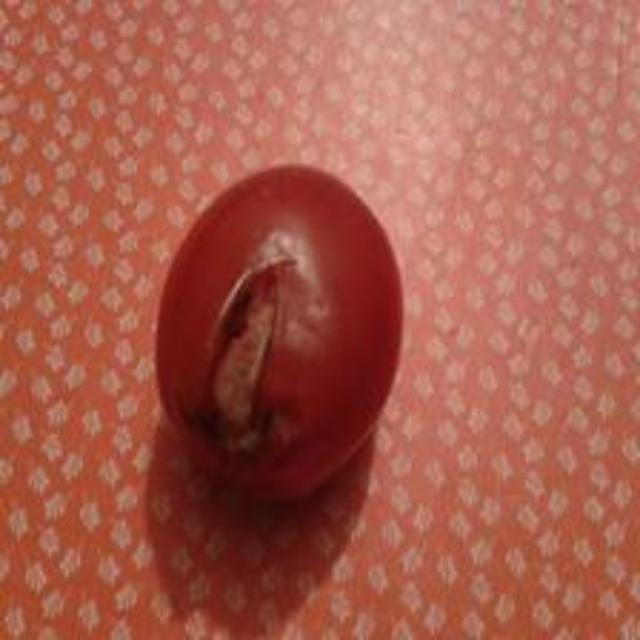defect: (152, 162, 409, 511)
